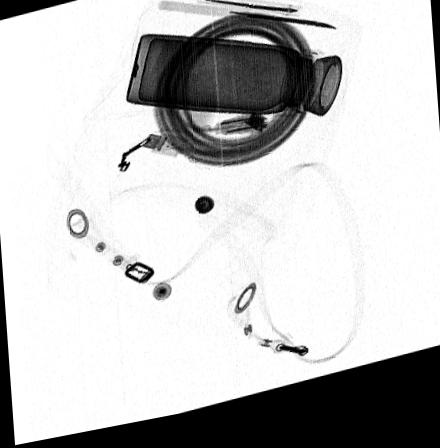Knife: (157, 5, 338, 41), (198, 0, 302, 26)
